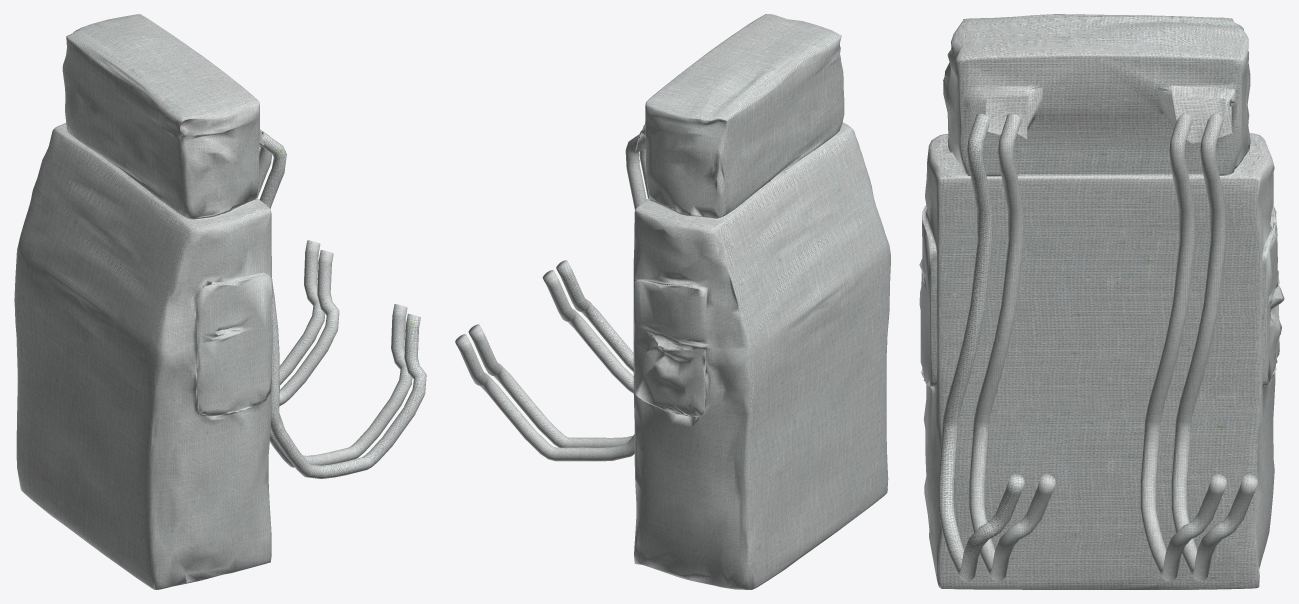
File: Astronout_bagpack.fbx
The picture shows the model from 3 angles, left to right: view 1: azimuth 30°, elevation 25°; view 2: azimuth 150°, elevation 25°; view 3: azimuth 270°, elevation 25°; orthographic projection. The views are drawn at different scales.
Visible parts, largest first — view 1: Astronought_bagpack.001, Rope_!.001, Rope_2.001, Rope_3.001, Rope_4.001; view 2: Astronought_bagpack.001, Rope_4.001, Rope_3.001, Rope_2.001, Rope_!.001; view 3: Astronought_bagpack.001, Rope_!.001, Rope_3.001, Rope_2.001, Rope_4.001.
Boxes of the visible parts, box(x1,y1,x2,y2) form: Astronought_bagpack.001: box(14, 14, 272, 589); Rope_!.001: box(259, 131, 426, 478); Rope_2.001: box(256, 129, 412, 467); Rope_3.001: box(279, 250, 339, 405); Rope_4.001: box(279, 240, 324, 384); Astronought_bagpack.001: box(633, 14, 890, 589); Rope_4.001: box(455, 134, 646, 461); Rope_3.001: box(468, 148, 648, 447); Rope_2.001: box(542, 270, 633, 393); Rope_!.001: box(556, 260, 633, 371); Astronought_bagpack.001: box(919, 14, 1284, 589); Rope_!.001: box(938, 113, 1024, 581); Rope_3.001: box(1140, 113, 1226, 581); Rope_2.001: box(969, 113, 1055, 581); Rope_4.001: box(1171, 113, 1257, 581).
Bounding box in the file's own units: 30.59 × 45.17 × 27.7.
1 material, 1 textured.
